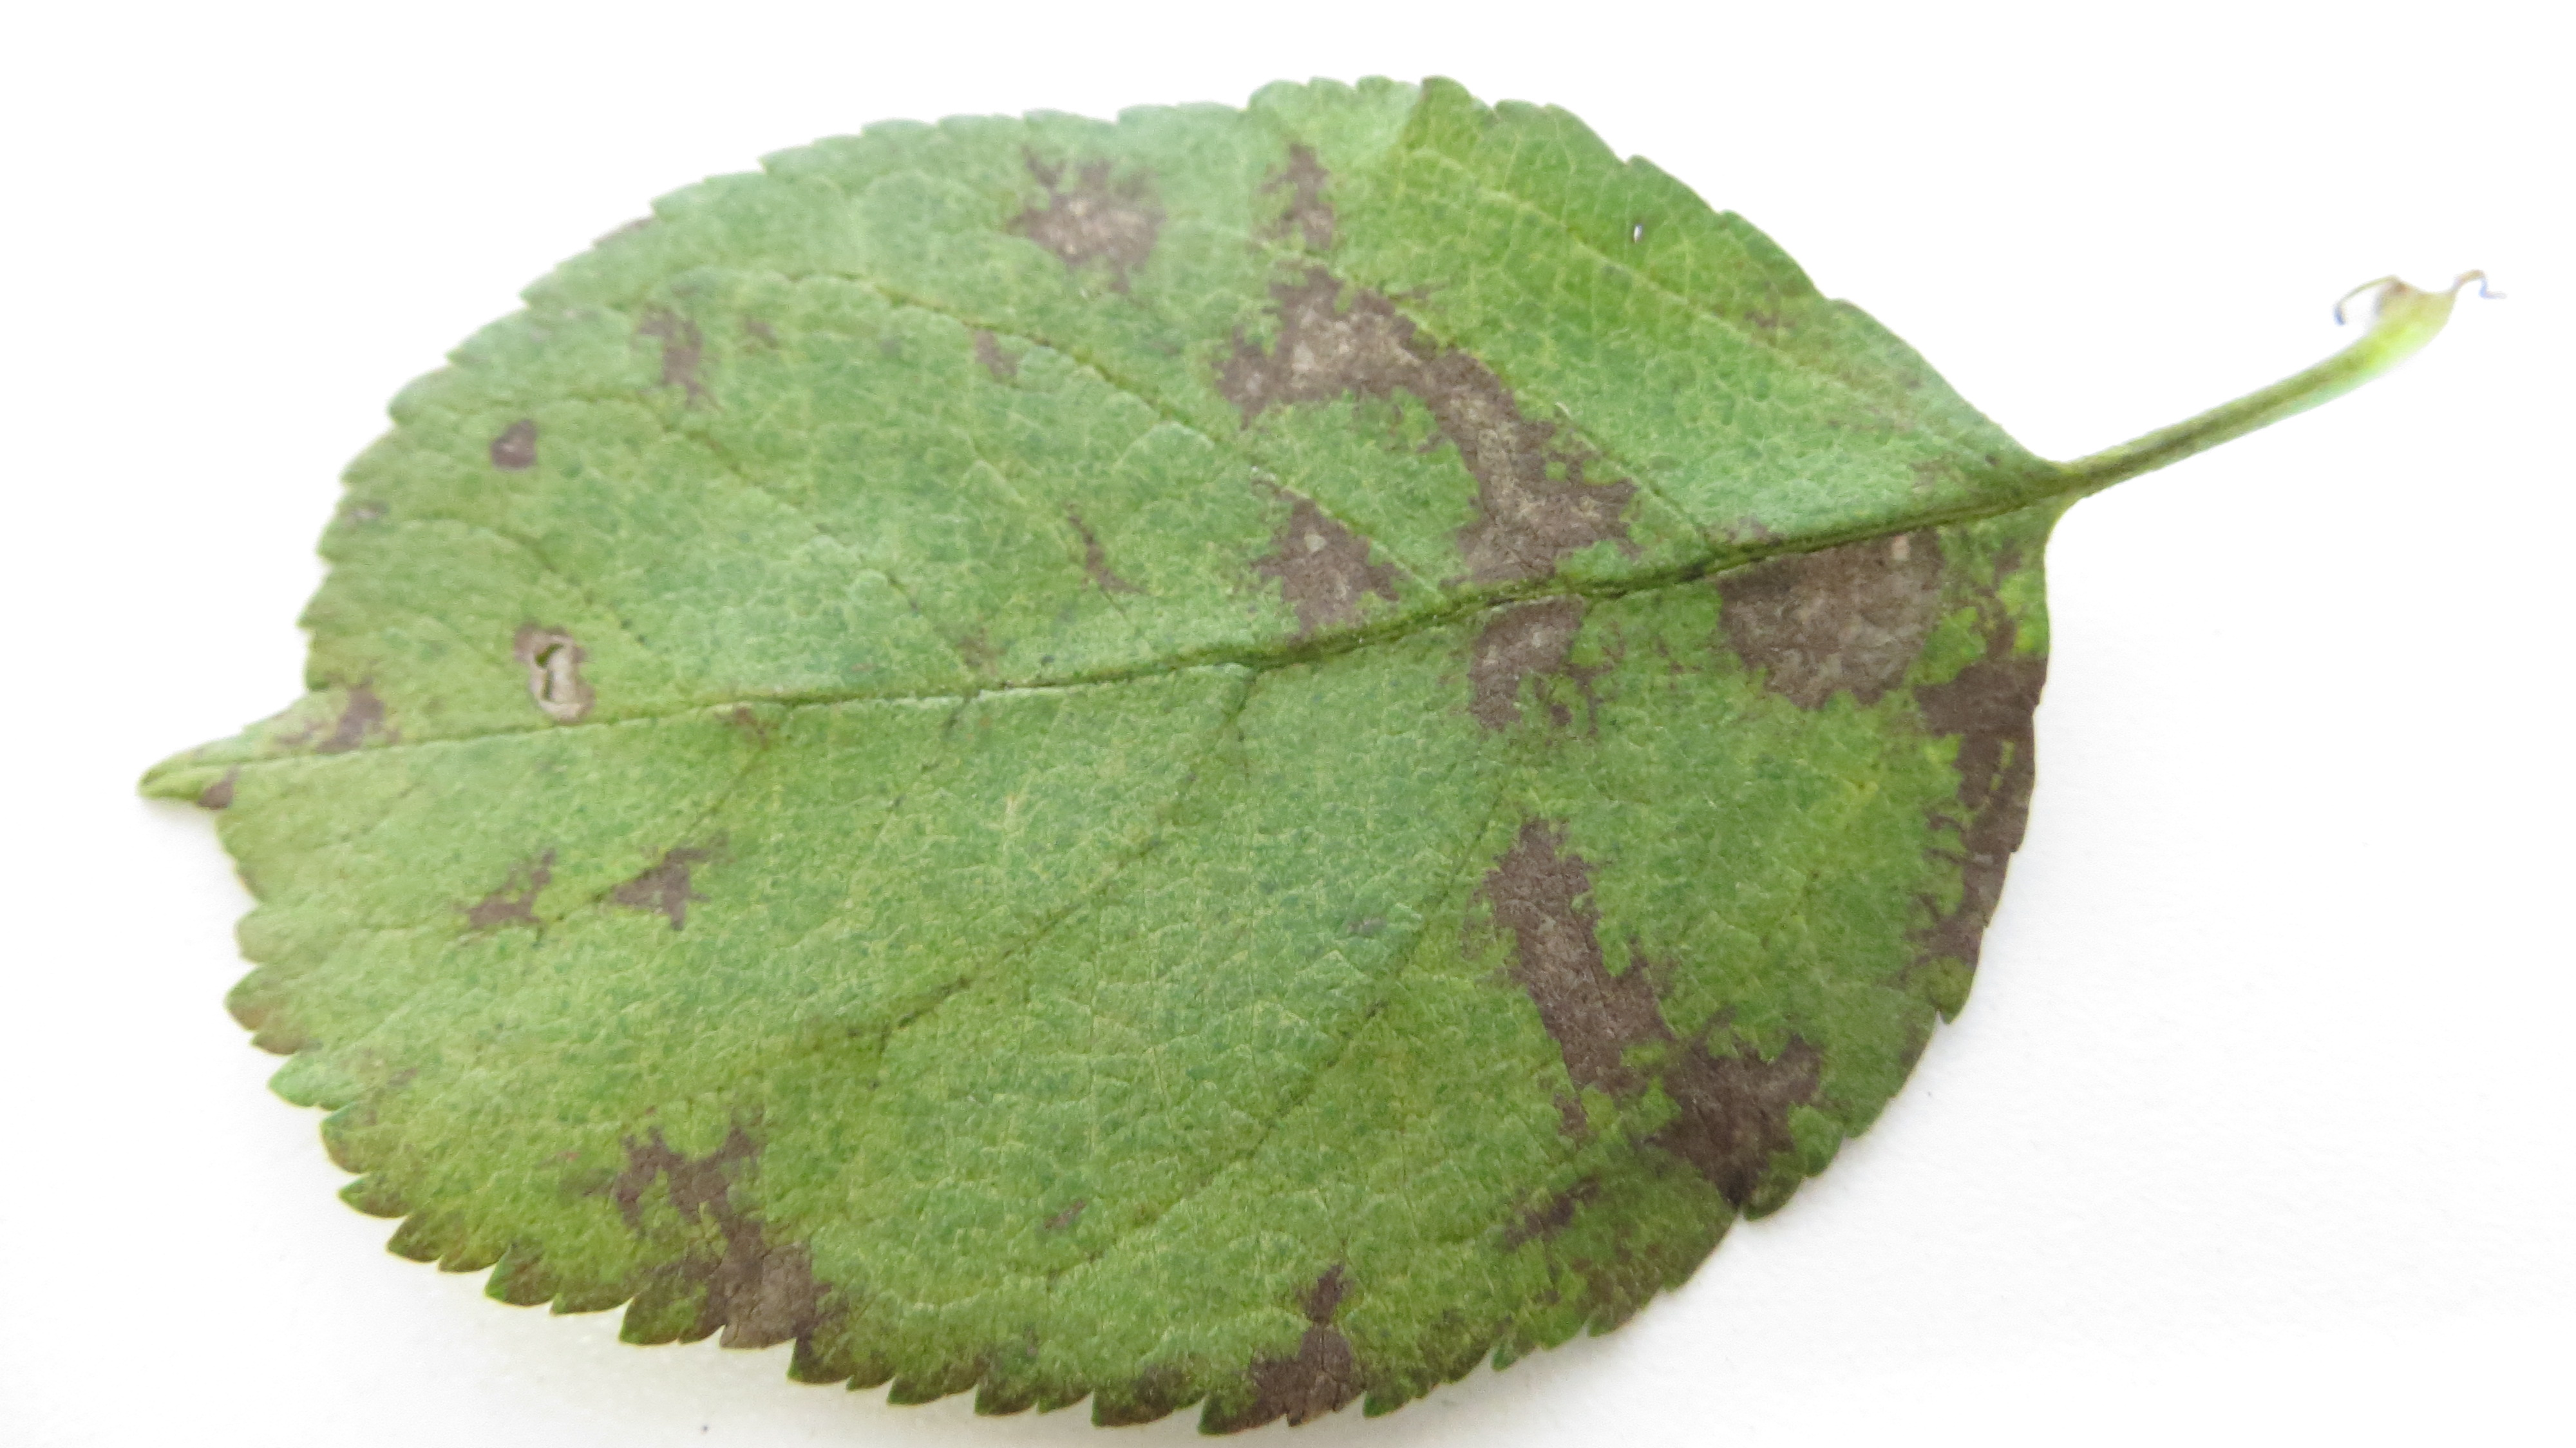sarna: (1394, 331, 1640, 574), (1479, 804, 1679, 1087), (1704, 513, 1953, 720), (609, 1112, 830, 1336), (1651, 995, 1835, 1202), (1214, 264, 1408, 434), (1916, 612, 2056, 836), (1246, 492, 1419, 671), (1000, 131, 1175, 297), (1445, 575, 1619, 738), (1233, 1239, 1384, 1411), (442, 832, 568, 958), (1902, 846, 2008, 991), (591, 816, 711, 936), (502, 607, 612, 738), (635, 296, 741, 425), (1476, 1142, 1598, 1253), (1254, 143, 1355, 253), (313, 660, 405, 766), (478, 397, 563, 494)
